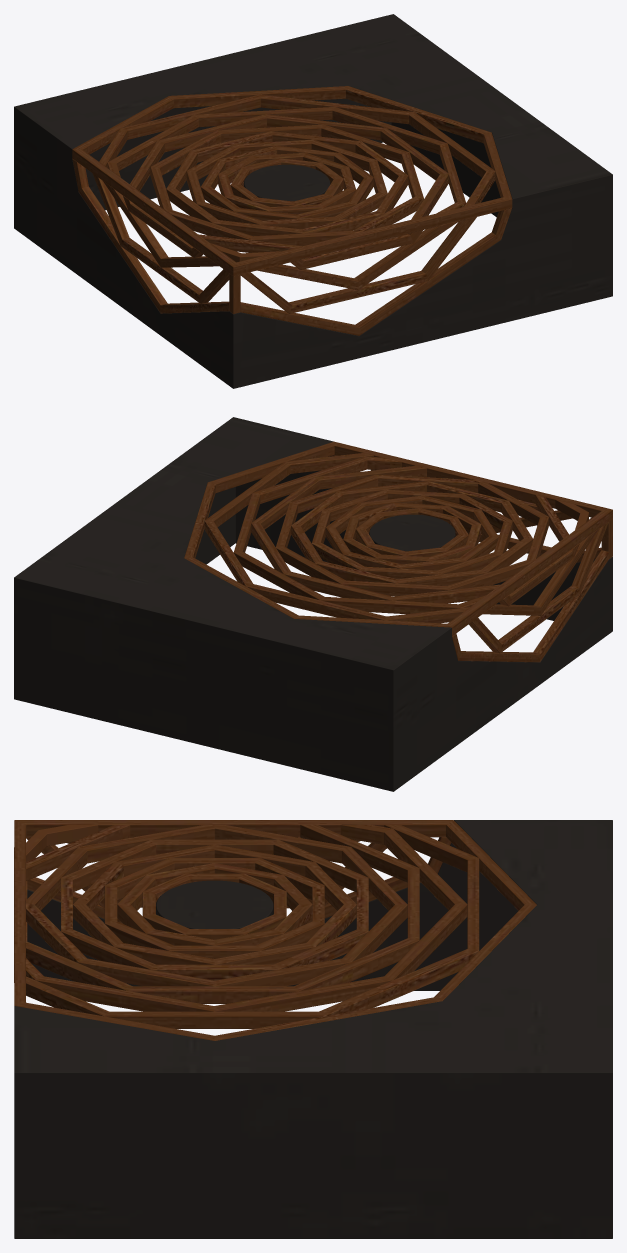
Rendered from modern_coffee_table_02.glb.
The picture shows the model from 3 angles, top to bottom: view 1: azimuth 30°, elevation 25°; view 2: azimuth 150°, elevation 25°; view 3: azimuth 270°, elevation 25°; orthographic projection. The views are drawn at different scales.
Parts seen in each view (by area): view 1: modern_coffee_table_02; view 2: modern_coffee_table_02; view 3: modern_coffee_table_02.
Part boxes in pixels (x1,y1,x2,y2): modern_coffee_table_02: (14,14,612,388); modern_coffee_table_02: (14,417,612,791); modern_coffee_table_02: (14,820,612,1238).
Size of the model in its own units: 1.2 by 0.3692 by 1.2.
Materials: 2 (2 with a texture image).
